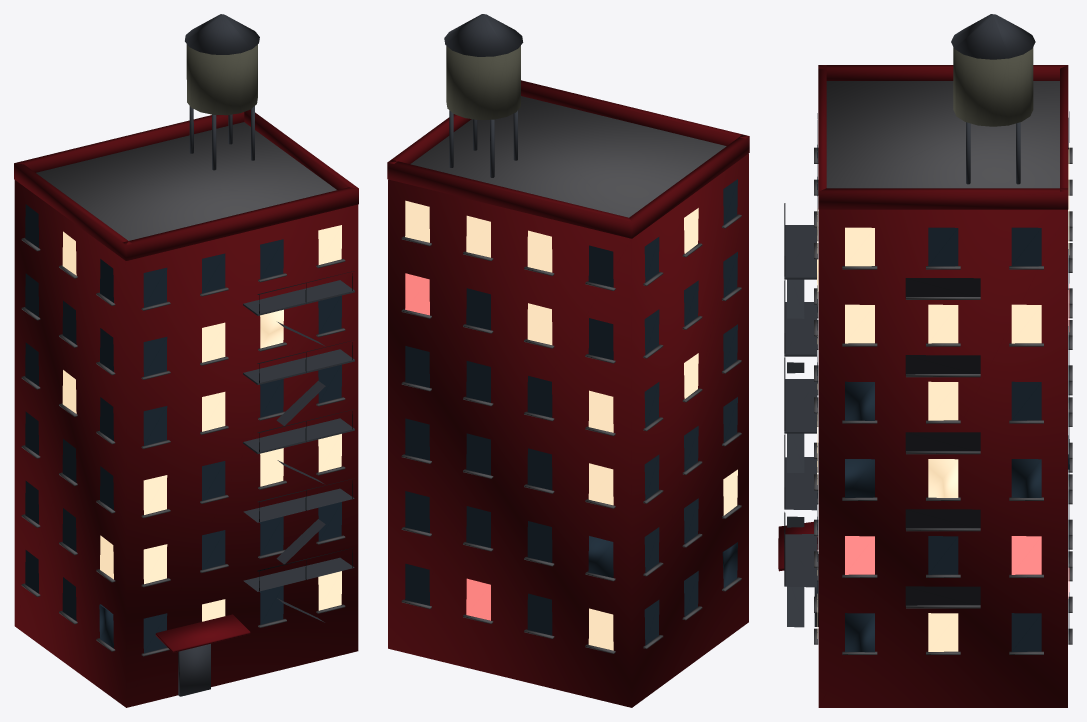
Rendered from kit_apartment_lod1.glb.
3 views of the same model, side by side, from view 1: azimuth 30°, elevation 25°; view 2: azimuth 150°, elevation 25°; view 3: azimuth 270°, elevation 25° (orthographic). The views are drawn at different scales.
Visible parts, largest first — view 1: apartment_LOD1; view 2: apartment_LOD1; view 3: apartment_LOD1.
Boxes of the visible parts, left/top/right/bottom form: apartment_LOD1: left=14, top=14, right=358, bottom=707; apartment_LOD1: left=387, top=14, right=749, bottom=707; apartment_LOD1: left=778, top=14, right=1072, bottom=707.
Size of the model in its own units: 13.06 by 29.2 by 11.75.
10 materials, 10 textured.
